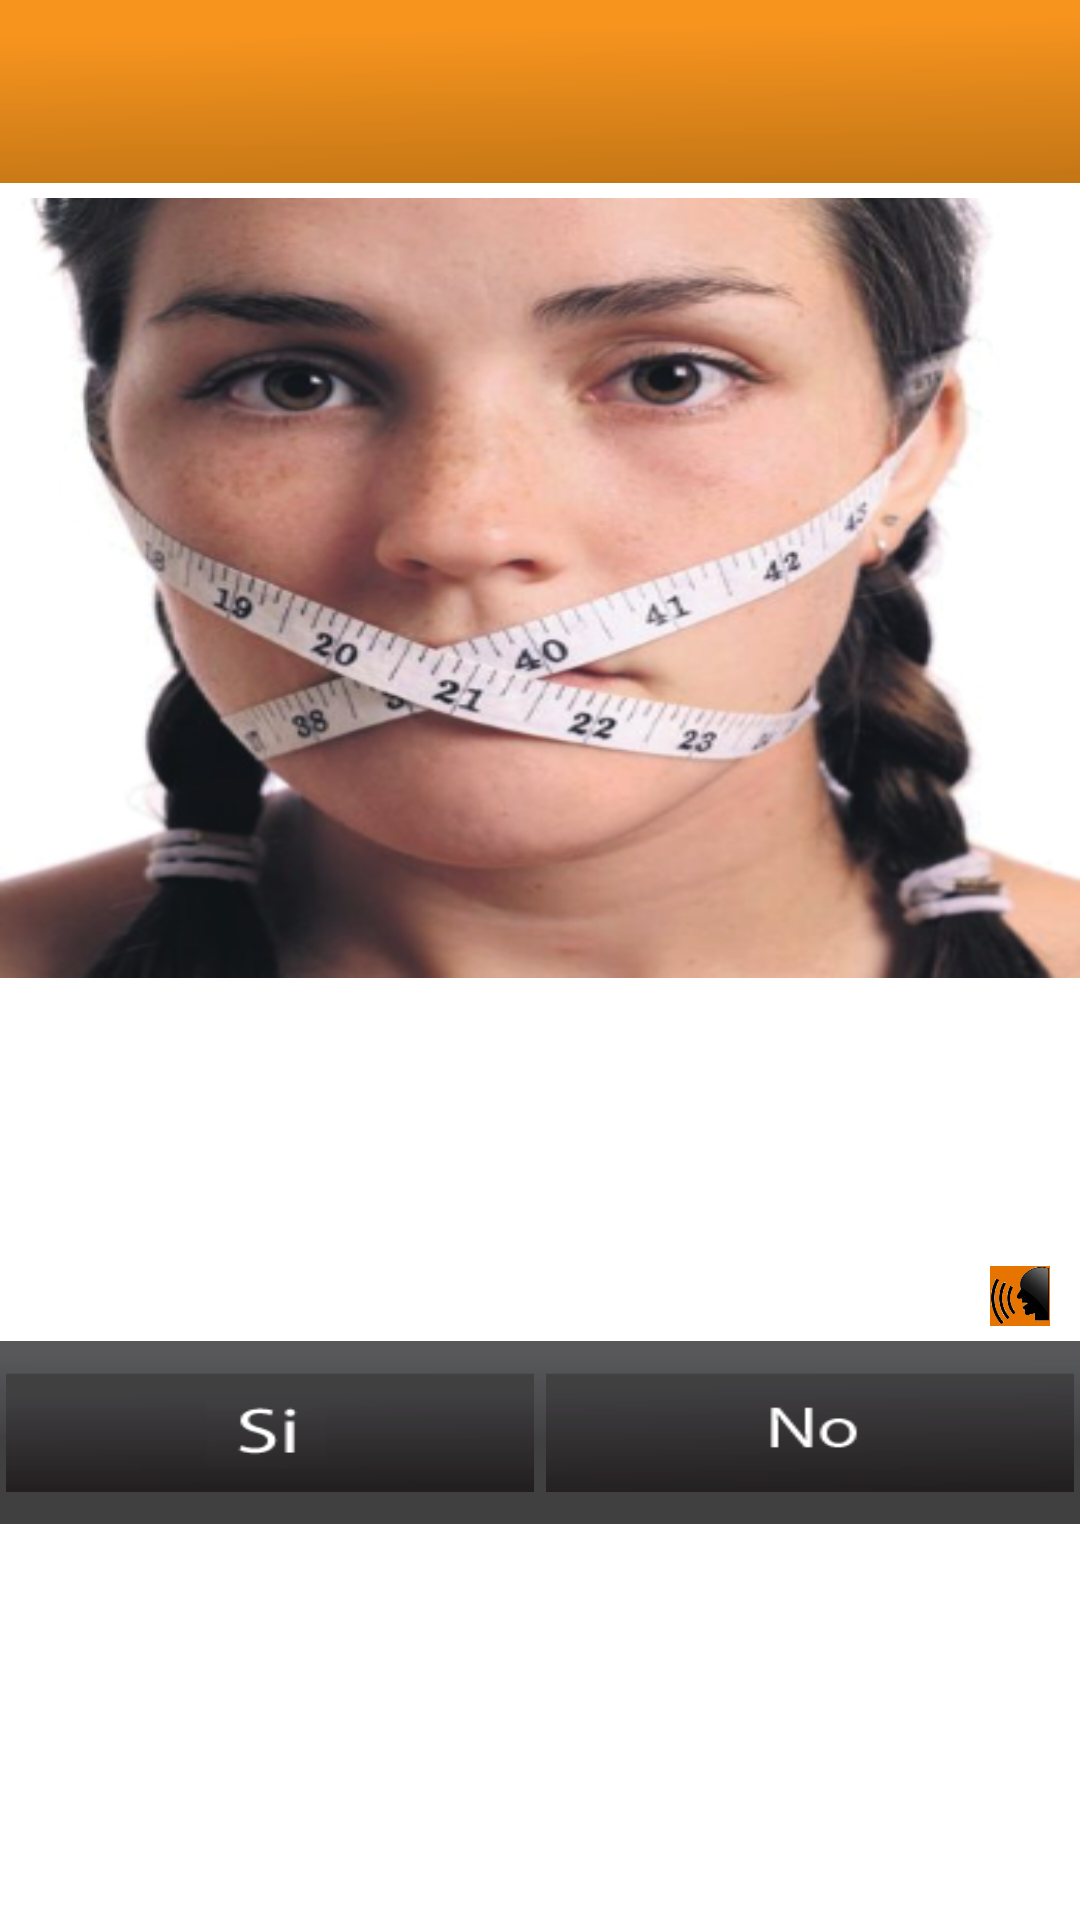

Where icons sit on this 1080px x 1920px app screen, as bbox=(x1, y1, x2, y2):
soundicon: bbox=(990, 1266, 1050, 1326)
